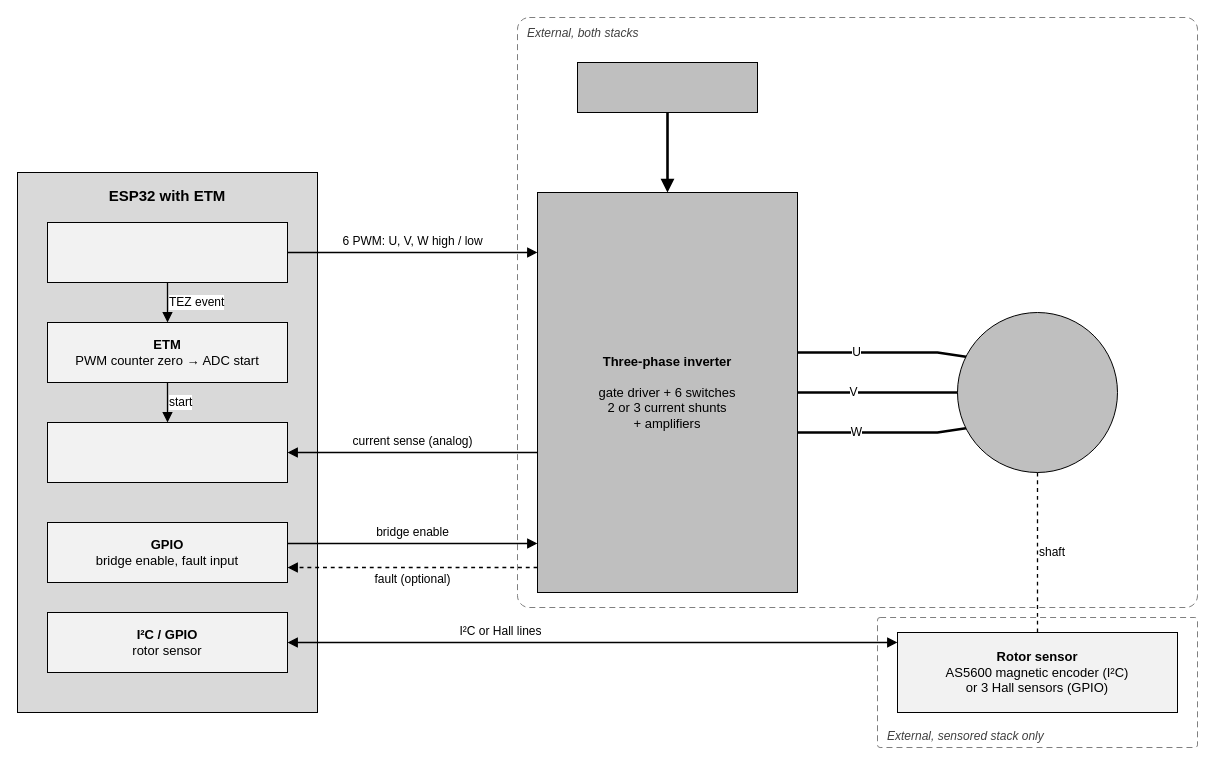
The diagram is 1215 pixels wide and 765 high, and some of its shapes have lost their labels. The centre of each missing label's shape, as x and y in pixels:
ADC + DMA 2 or 3 current channels: [167,452]
DC supply: [667,87]
MCPWM 6 PWM, dead time: [167,252]
PMSM / BLDC motor: [1037,392]
